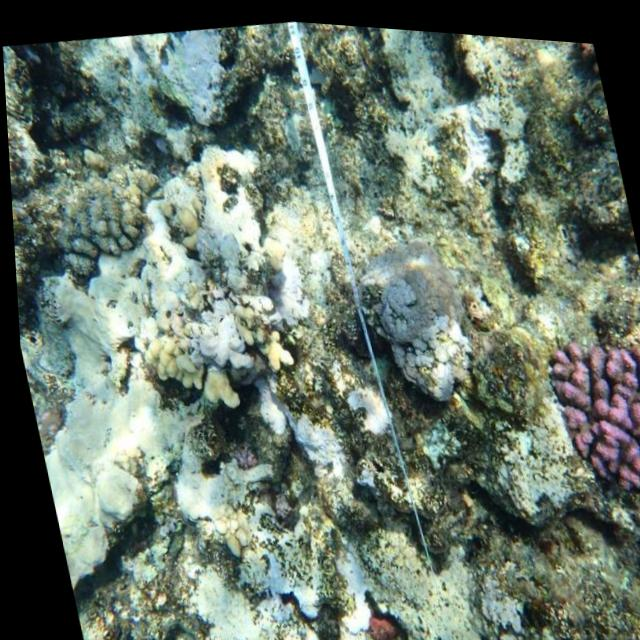Bleached Coral: (12, 249, 177, 640), (87, 158, 343, 390), (132, 492, 364, 640), (332, 248, 490, 422), (364, 21, 482, 196), (231, 365, 366, 500), (429, 70, 542, 187)
Healthy Coral: (550, 308, 640, 510)
